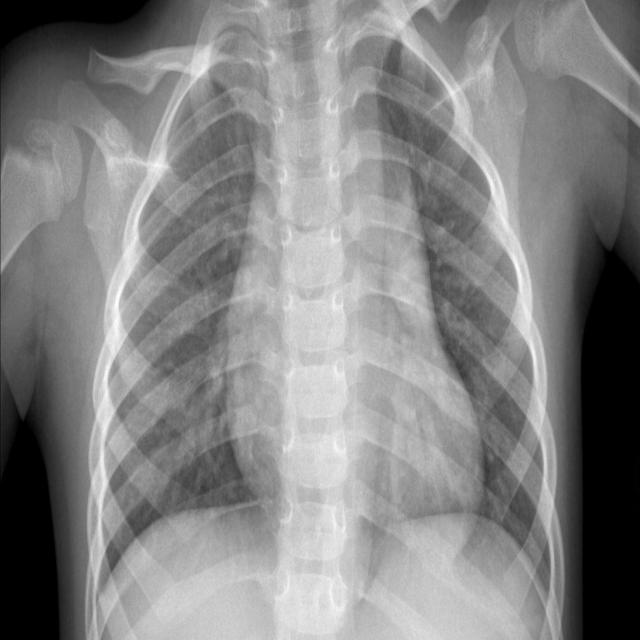no-pneumonia: (88, 37, 270, 620), (381, 33, 556, 590)
